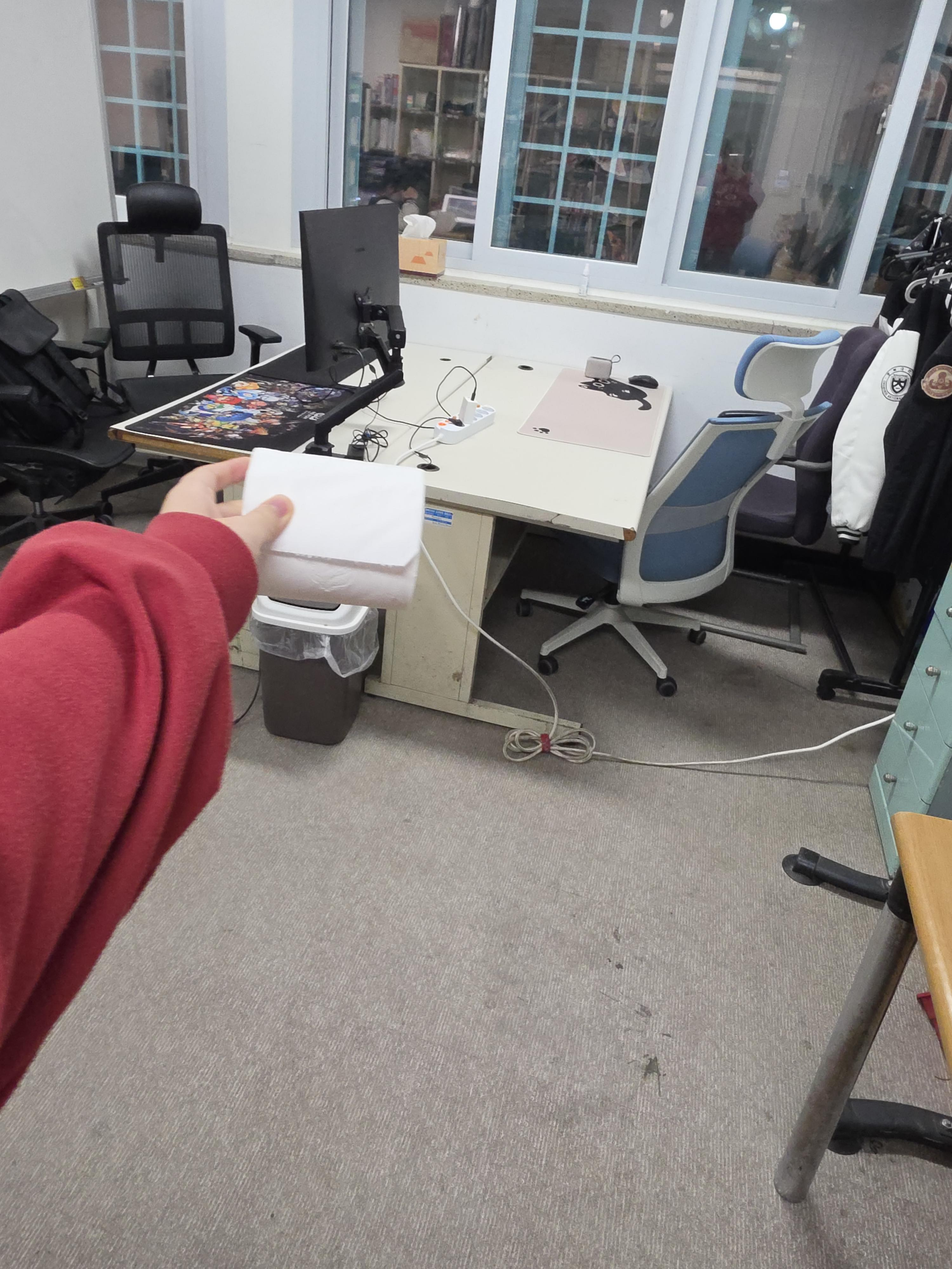tissue: (242, 447, 426, 609), (399, 214, 447, 277)
